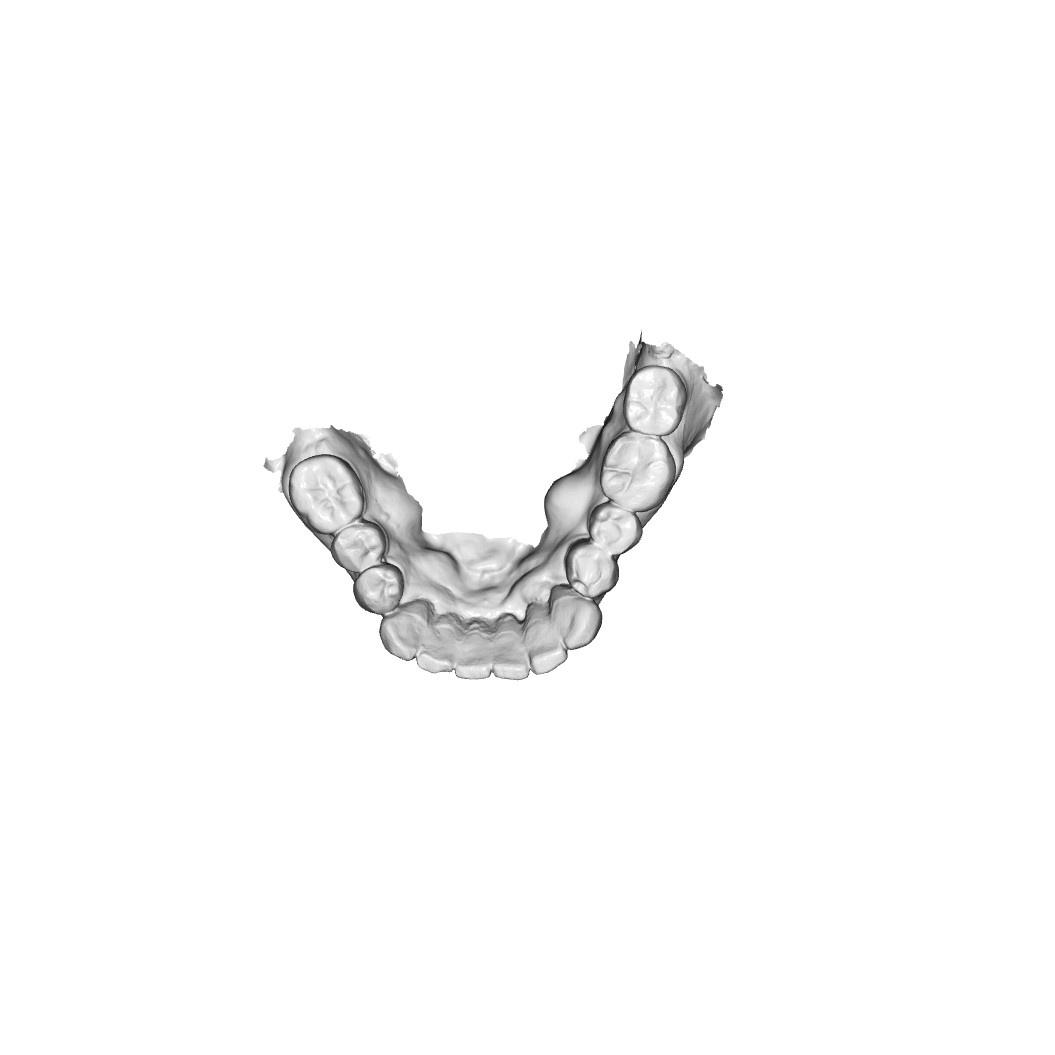canine: (549, 585, 601, 653), (378, 603, 430, 663)
incisor: (528, 609, 572, 675), (418, 614, 460, 675), (455, 623, 495, 680), (495, 619, 531, 681)
molar: (602, 429, 675, 514), (291, 460, 361, 532), (620, 363, 687, 437)
premolar: (585, 500, 642, 557), (568, 540, 622, 599), (356, 566, 405, 615), (334, 524, 385, 570)
